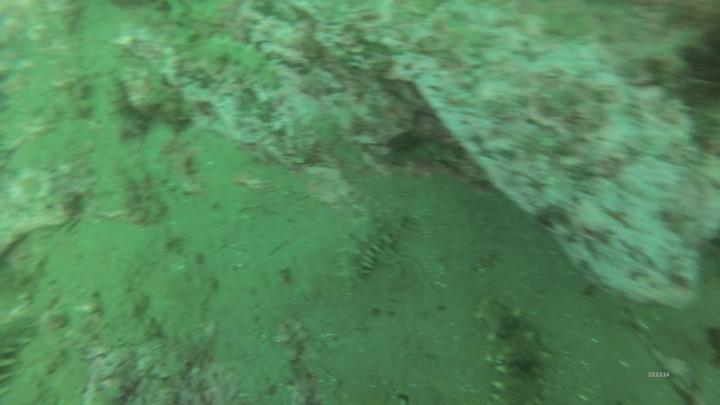holothurian: (477, 297, 549, 405), (339, 204, 408, 289), (203, 32, 277, 95), (316, 116, 363, 181)
